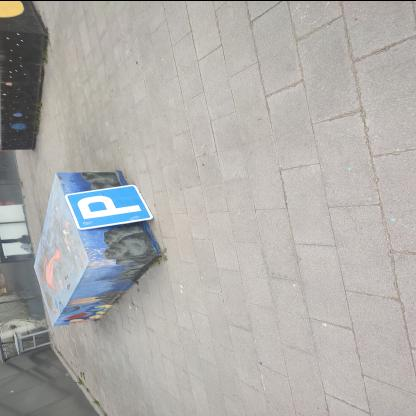Parking-Sign: (66, 184, 155, 230)
